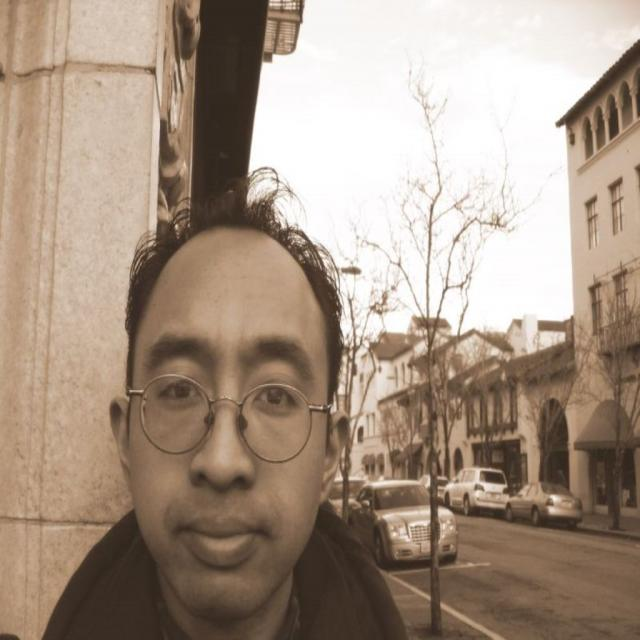other: (362, 492, 460, 580), (504, 483, 584, 529), (444, 467, 507, 519), (328, 476, 366, 522), (419, 474, 447, 498)
